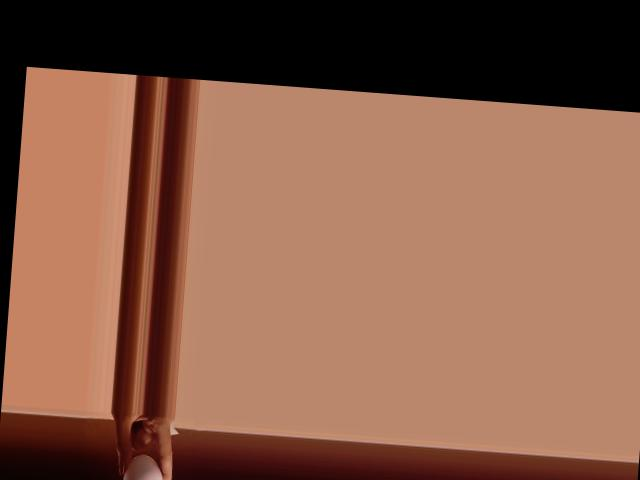egg: (120, 451, 164, 480)
